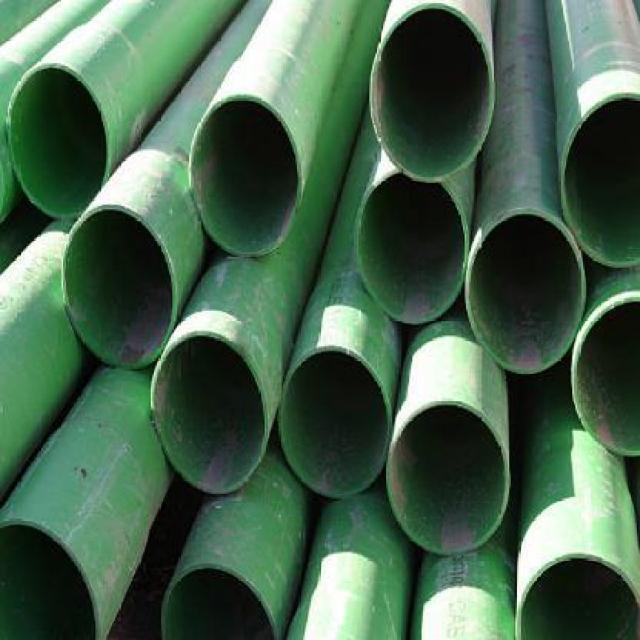pipe: (370, 3, 495, 183), (465, 210, 587, 373), (386, 397, 509, 555), (152, 331, 269, 494), (61, 205, 177, 368), (188, 95, 301, 257), (356, 169, 470, 323), (279, 346, 393, 497), (7, 62, 112, 219), (561, 92, 640, 269), (0, 517, 100, 639), (571, 292, 639, 458), (515, 552, 640, 640), (160, 563, 279, 639)
